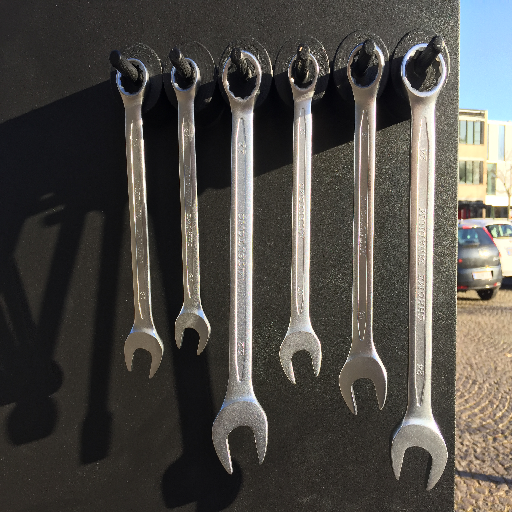bottom: (210, 393, 271, 475), (387, 414, 450, 493), (335, 351, 389, 416), (277, 324, 324, 383), (121, 326, 167, 379), (172, 303, 213, 357)
top: (398, 41, 449, 103), (220, 50, 264, 108), (345, 40, 387, 94), (113, 56, 152, 101), (286, 50, 322, 96), (168, 55, 205, 99)
